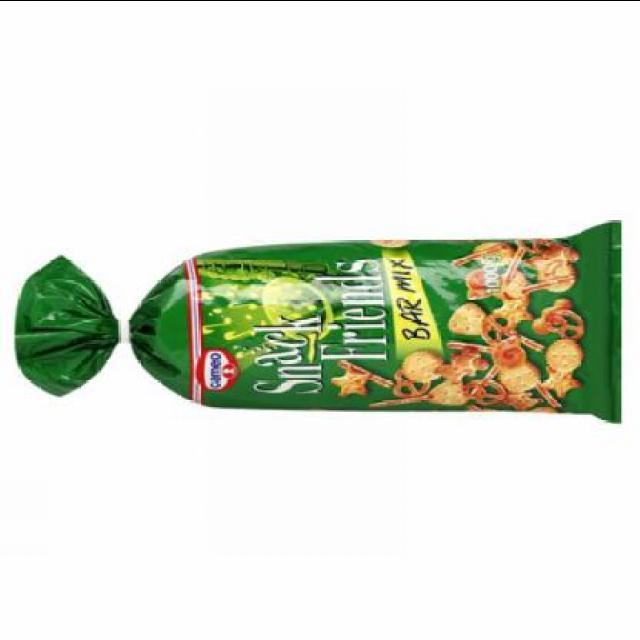Salatini: (21, 218, 624, 426)
